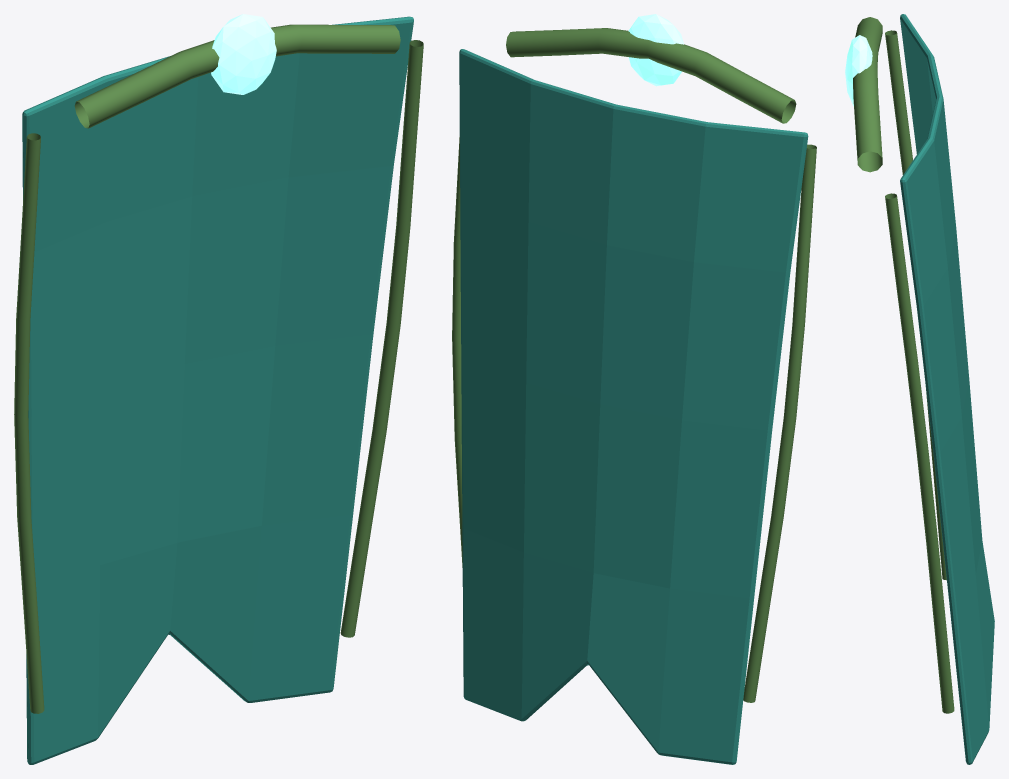
Rendered from cape_aurora.glb.
3 renders of one model, left to right at view 1: azimuth 30°, elevation 25°; view 2: azimuth 150°, elevation 25°; view 3: azimuth 270°, elevation 25°, orthographic. The views are drawn at different scales.
Parts seen in each view (by area): view 1: CapeCloth, HemR, HemL, TopClasp, CapeClasp; view 2: CapeCloth, TopClasp, HemL, HemR, CapeClasp; view 3: CapeCloth, HemR, TopClasp, HemL, CapeClasp.
Part boxes in pixels (x1,y1,x2,y2): CapeCloth: (22,16,413,764); HemR: (340,40,423,637); HemL: (14,133,44,713); TopClasp: (74,24,400,128); CapeClasp: (211,14,276,94); CapeCloth: (459,49,808,764); TopClasp: (506,28,796,123); HemL: (743,144,816,702); HemR: (452,136,462,567); CapeClasp: (628,14,683,86); CapeCloth: (900,14,994,764); HemR: (885,193,954,713); TopClasp: (853,17,882,172); HemL: (885,30,946,580); CapeClasp: (845,35,872,106).
Size of the model in its own units: 0.764 by 1.41 by 0.2869.
